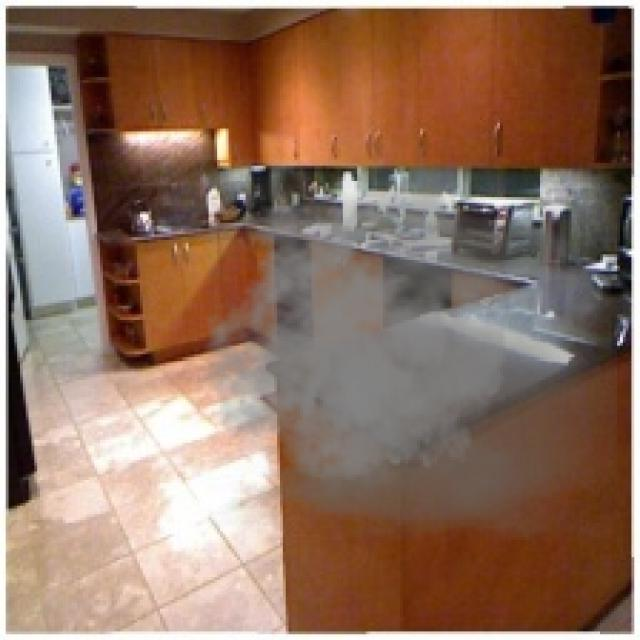smoke: (194, 166, 617, 540)
